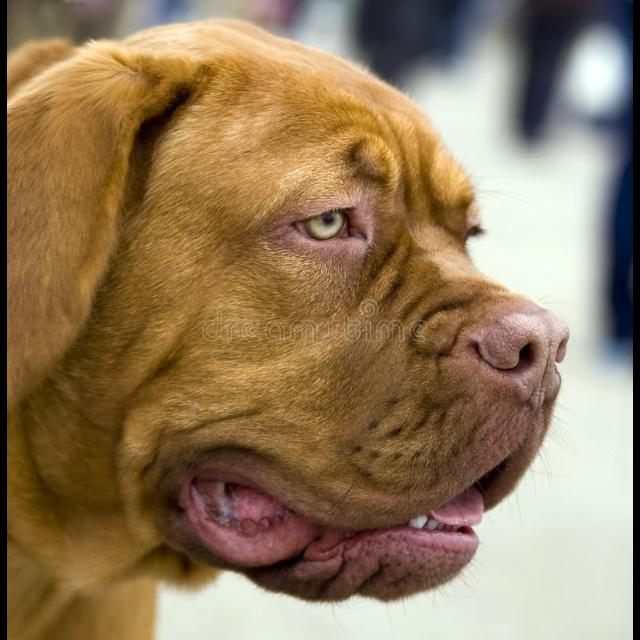dogue_de_bordeaux: (8, 18, 572, 639)
